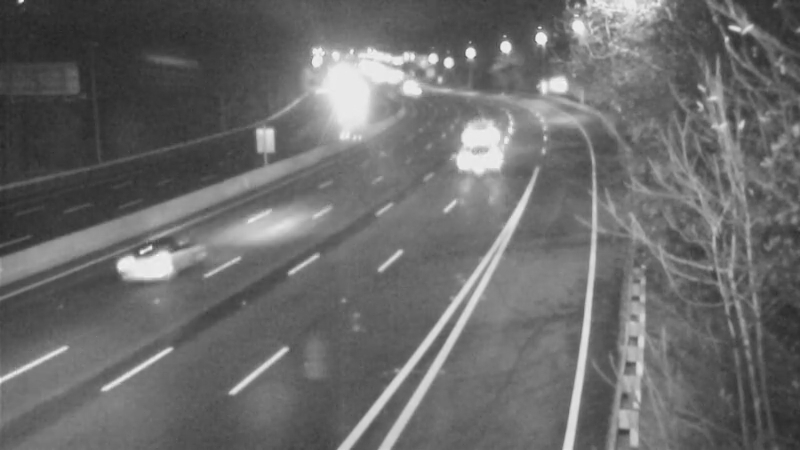vehicle: (448, 118, 528, 198), (109, 222, 189, 302), (389, 65, 439, 115), (449, 106, 499, 156)
